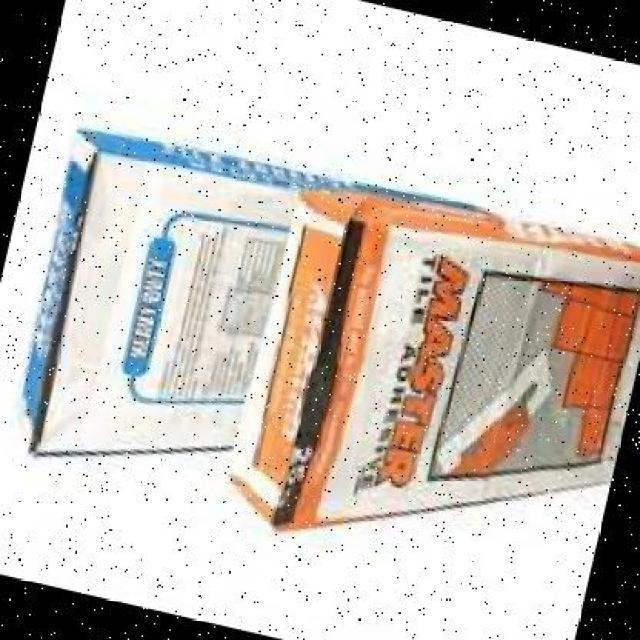gunny_bag: (280, 233, 640, 525), (36, 151, 301, 449)
